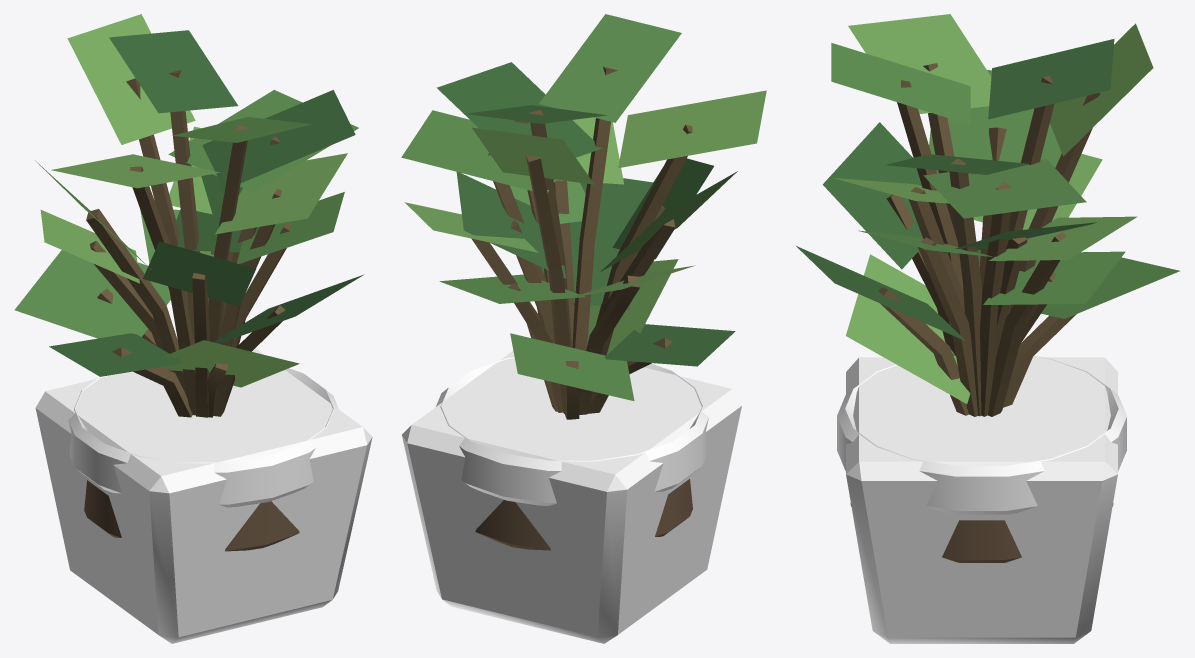
The model's file is plant-pot-small.glb.
3 renders of one model, left to right at view 1: azimuth 30°, elevation 25°; view 2: azimuth 150°, elevation 25°; view 3: azimuth 270°, elevation 25°, orthographic. The views are drawn at different scales.
Visible parts, largest first — view 1: plant-pot-small.tint, plant-pot-small.foliage3, plant-pot-small.stem, plant-pot-small.foliage2, plant-pot-small.foliage, plant-pot-small.soil; view 2: plant-pot-small.tint, plant-pot-small.foliage, plant-pot-small.foliage3, plant-pot-small.stem, plant-pot-small.foliage2, plant-pot-small.soil; view 3: plant-pot-small.tint, plant-pot-small.stem, plant-pot-small.foliage2, plant-pot-small.foliage, plant-pot-small.foliage3, plant-pot-small.soil.
Boxes of the visible parts, x1=… form: plant-pot-small.tint: x1=35, y1=344, x2=372, y2=643; plant-pot-small.foliage3: x1=49, y1=30, x2=363, y2=376; plant-pot-small.stem: x1=86, y1=70, x2=290, y2=417; plant-pot-small.foliage2: x1=40, y1=14, x2=347, y2=387; plant-pot-small.foliage: x1=14, y1=90, x2=358, y2=338; plant-pot-small.soil: x1=84, y1=480, x2=299, y2=551; plant-pot-small.tint: x1=402, y1=351, x2=741, y2=643; plant-pot-small.foliage: x1=401, y1=14, x2=737, y2=401; plant-pot-small.foliage3: x1=436, y1=62, x2=735, y2=366; plant-pot-small.stem: x1=471, y1=66, x2=692, y2=419; plant-pot-small.foliage2: x1=405, y1=90, x2=766, y2=355; plant-pot-small.soil: x1=475, y1=479, x2=692, y2=550; plant-pot-small.tint: x1=837, y1=356, x2=1126, y2=643; plant-pot-small.stem: x1=878, y1=63, x2=1100, y2=416; plant-pot-small.foliage2: x1=833, y1=14, x2=1153, y2=403; plant-pot-small.foliage: x1=831, y1=43, x2=1179, y2=318; plant-pot-small.foliage3: x1=796, y1=39, x2=1114, y2=341; plant-pot-small.soil: x1=850, y1=503, x2=1113, y2=562.
Bounding box in the file's own units: 0.25 × 0.3932 × 0.25.
